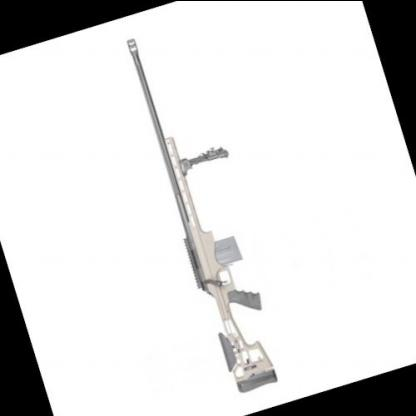rifle: (118, 16, 302, 406)
